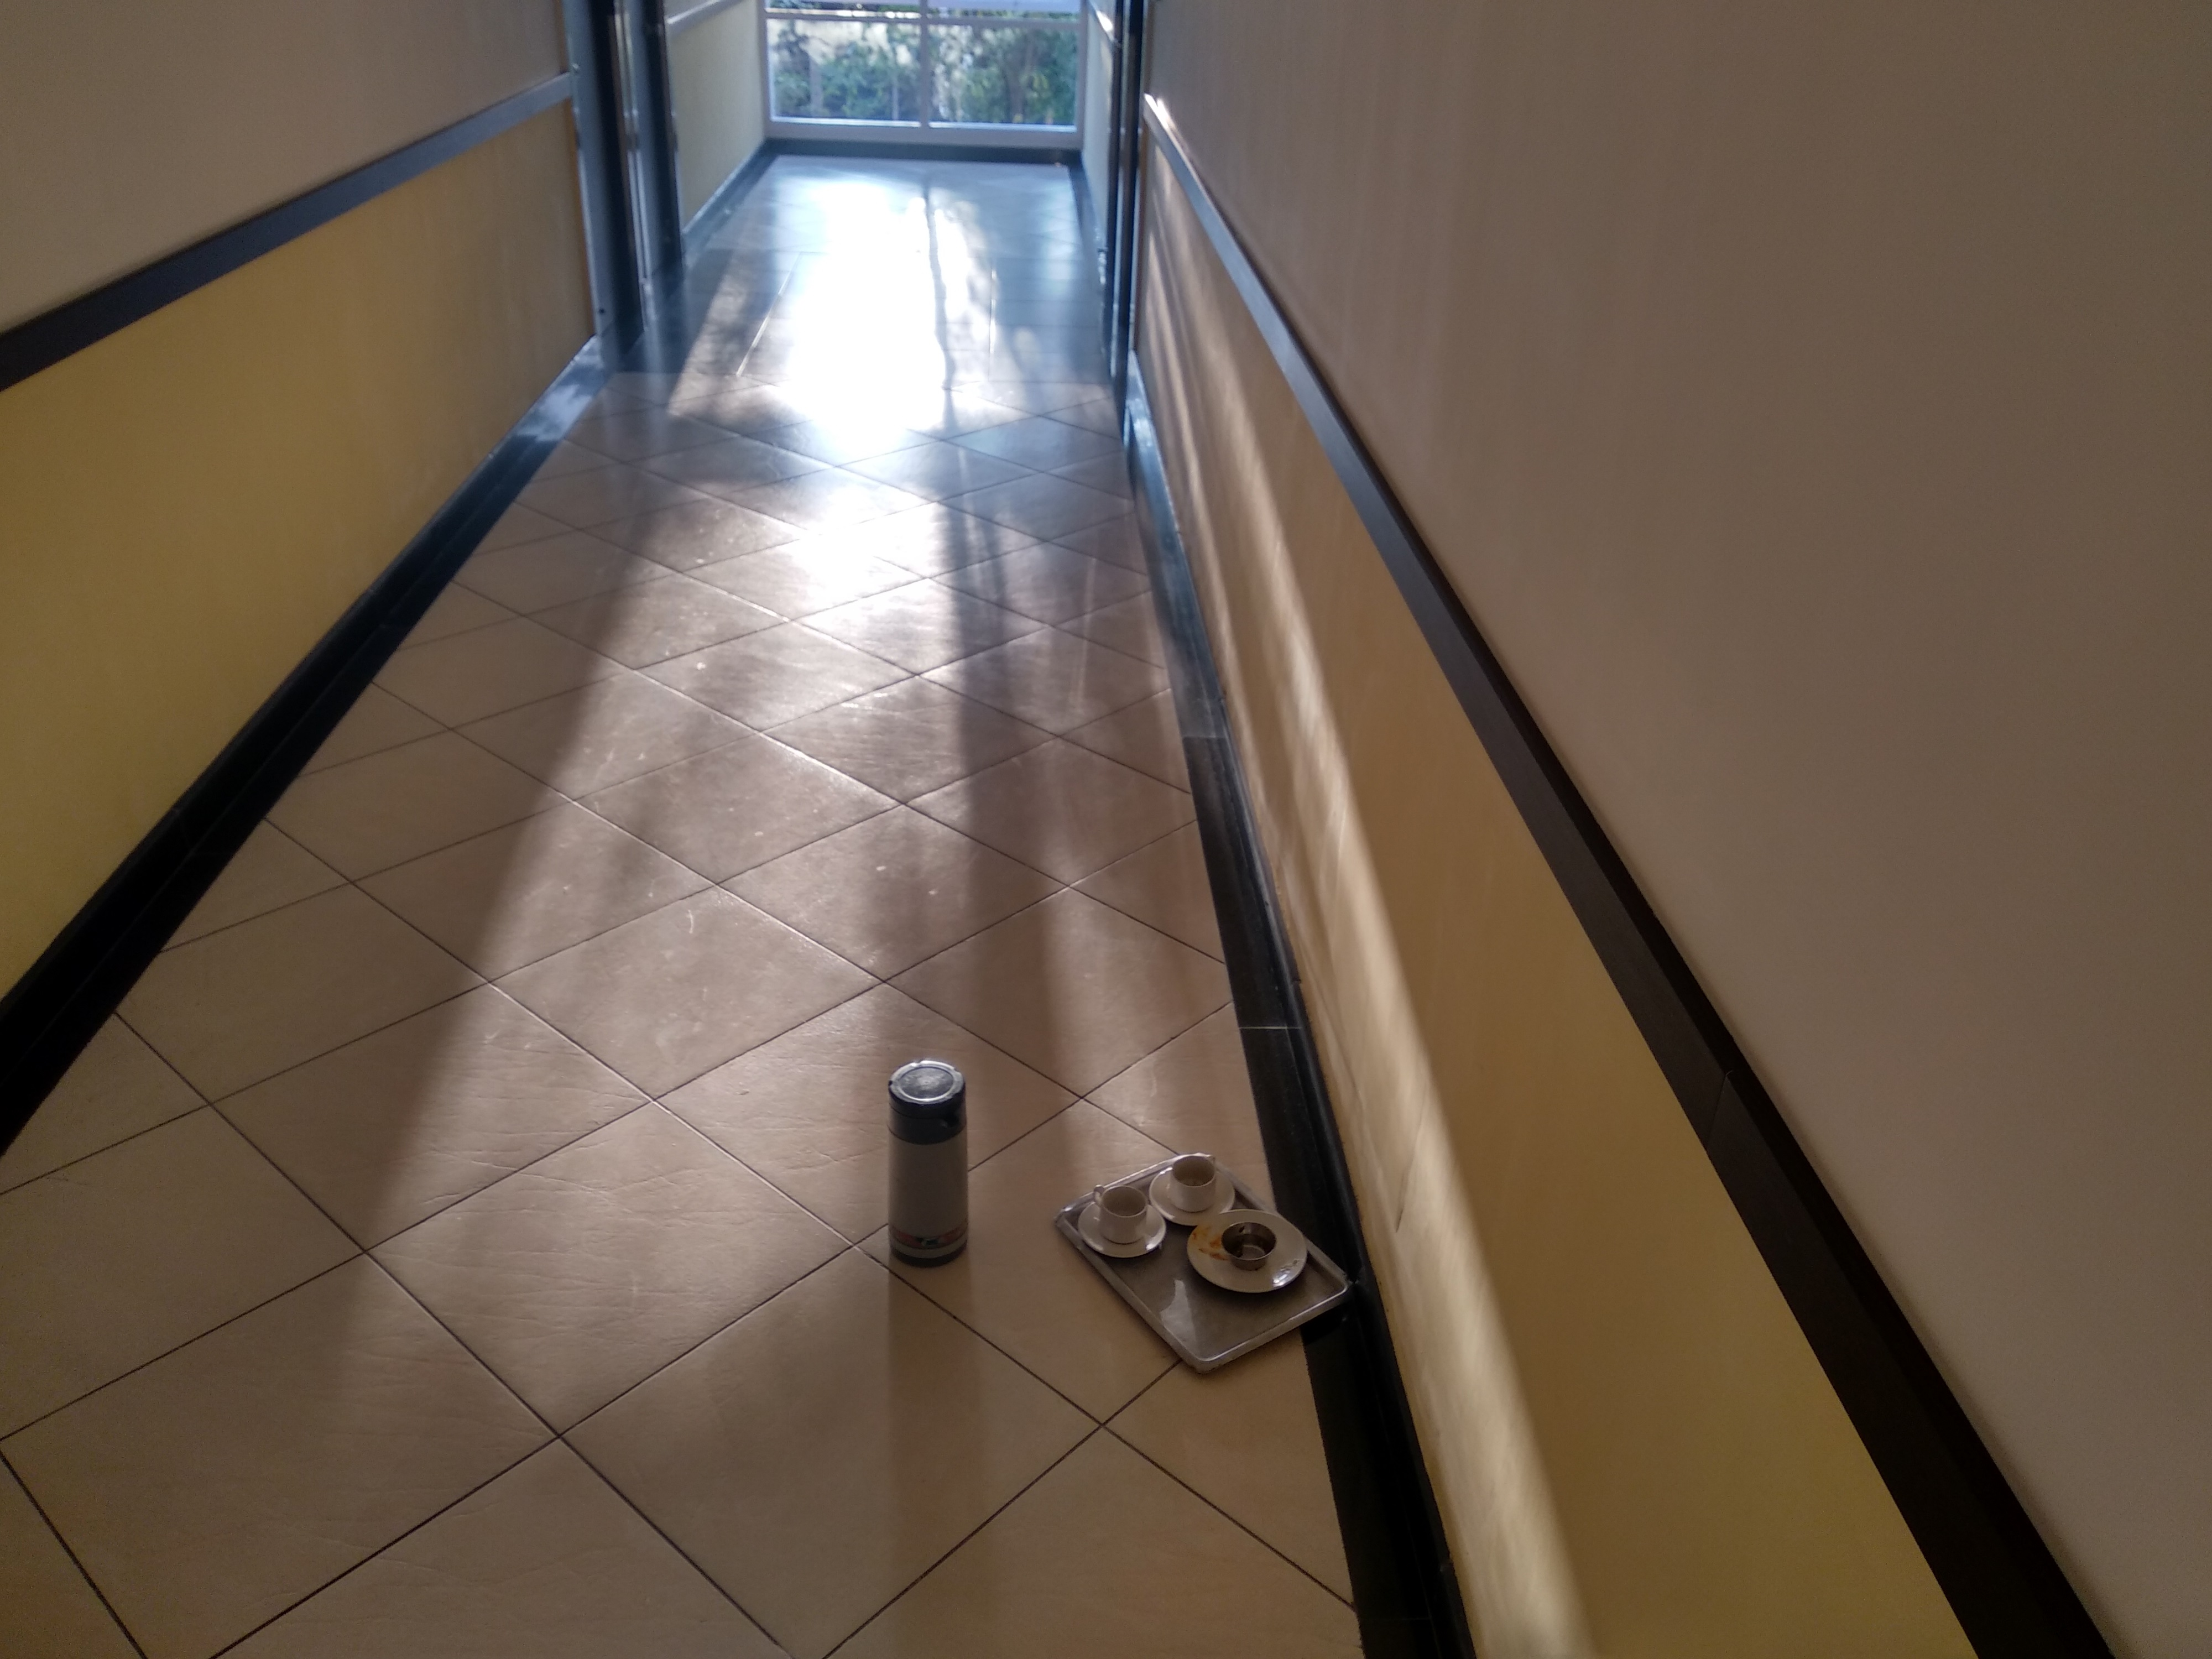CUP: (1080, 1169, 1160, 1265), (1162, 1147, 1235, 1223), (1219, 1220, 1282, 1270)
JUG: (873, 1063, 981, 1270)
